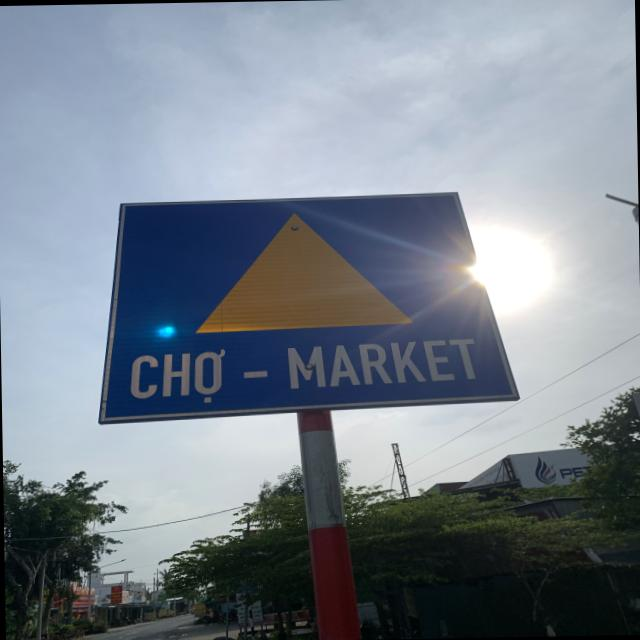Cho_Quay_Xe: (99, 192, 515, 422)
